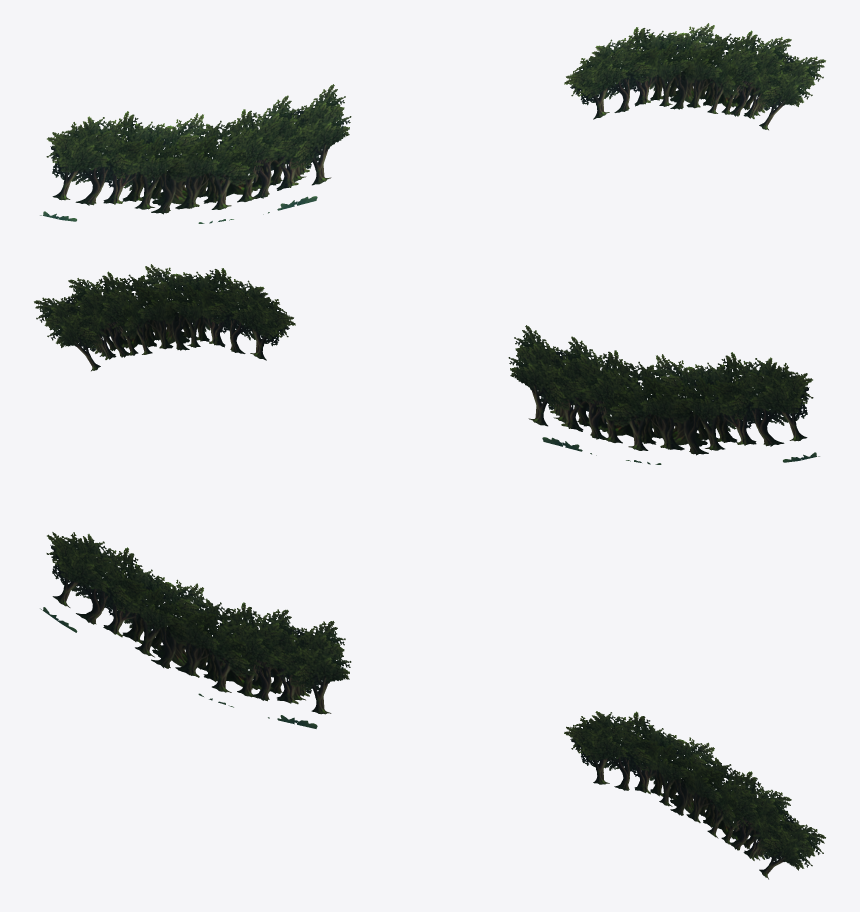
The model's file is Tree Group.FBX.
The picture shows the model from 3 angles, top to bottom: view 1: azimuth 30°, elevation 25°; view 2: azimuth 150°, elevation 25°; view 3: azimuth 330°, elevation 25°; orthographic projection.
Visible parts, largest first — view 1: LVL 1 Tree Group 1, LVL 1 Tree Group 2; view 2: LVL 1 Tree Group 1, LVL 1 Tree Group 2; view 3: LVL 1 Tree Group 1, LVL 1 Tree Group 2.
Part boxes in pixels (x1,y1,x2,y2): LVL 1 Tree Group 1: [40, 84, 351, 223]; LVL 1 Tree Group 2: [564, 23, 825, 130]; LVL 1 Tree Group 1: [508, 325, 819, 464]; LVL 1 Tree Group 2: [34, 264, 295, 371]; LVL 1 Tree Group 1: [40, 532, 351, 728]; LVL 1 Tree Group 2: [564, 711, 825, 879].
Bounding box in the file's own units: 7970 × 0.000471 × 2063.
